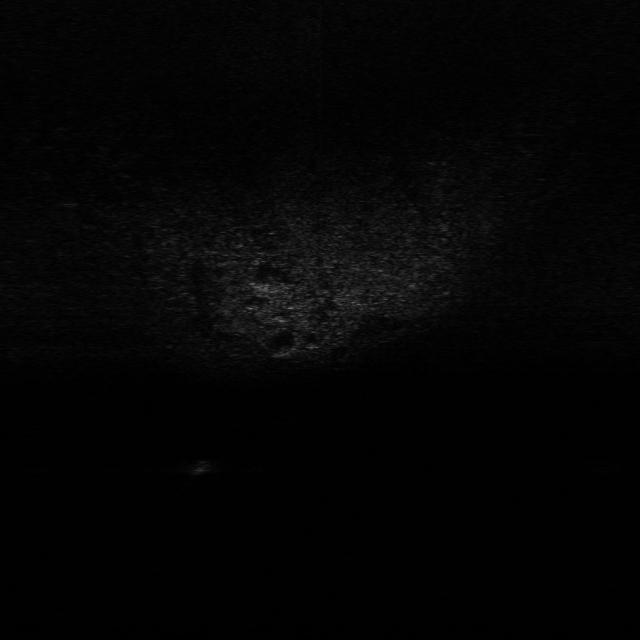cylinder: (184, 455, 213, 479)
